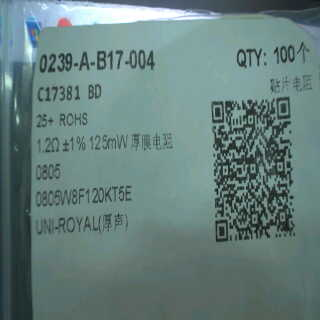1.2R: (33, 135, 61, 184)
